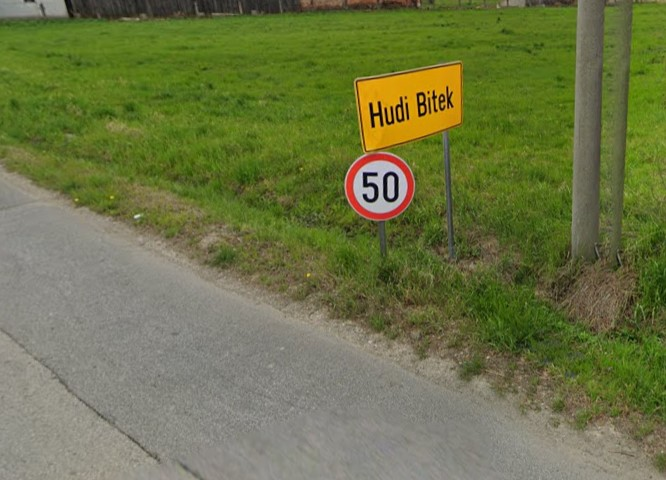Ograničenje brzine 50: (344, 152, 415, 221)
